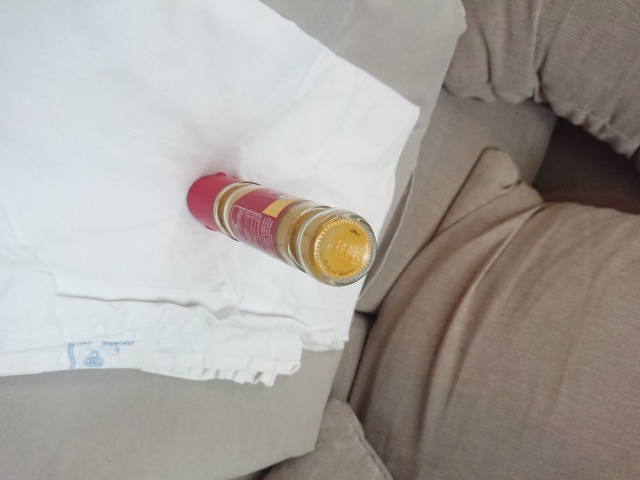Kotanyi Curry Spices Mix 70g: (185, 170, 380, 290)
